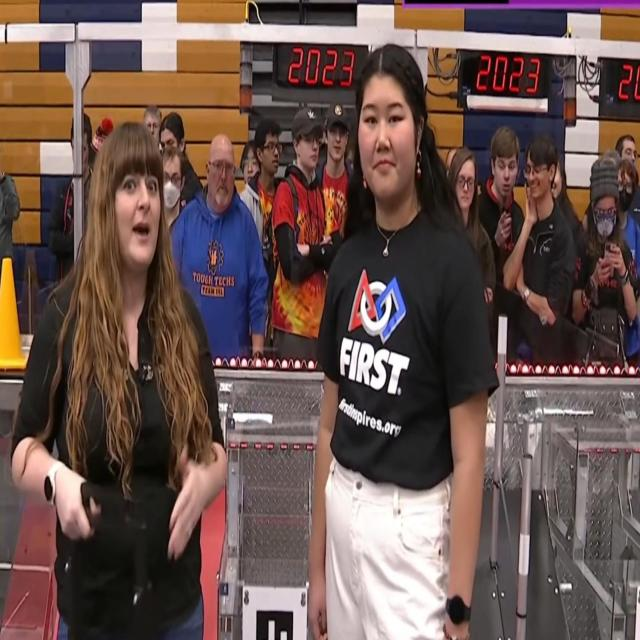frc_cone: (0, 255, 30, 378)
